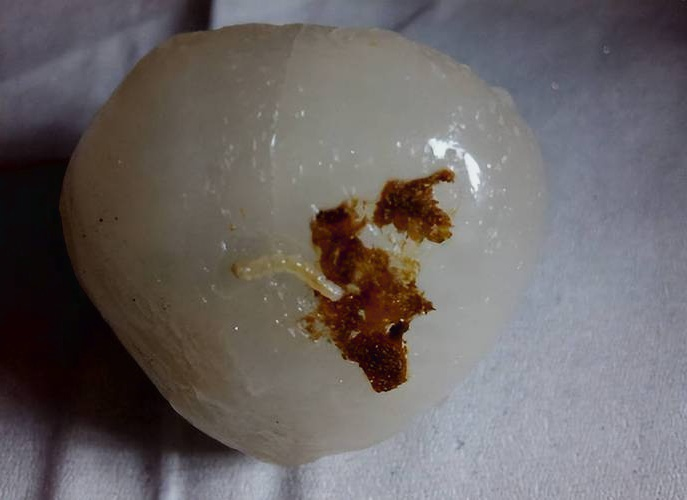Borer: (224, 251, 349, 290)
